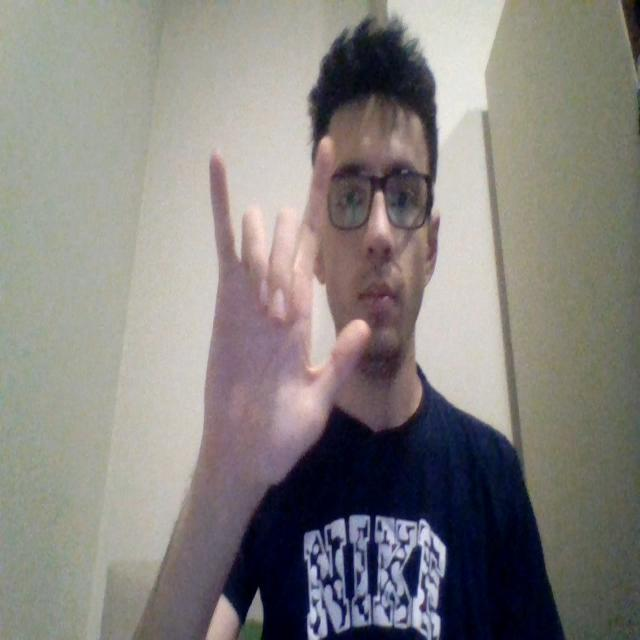iloveyou: (198, 148, 372, 496)
